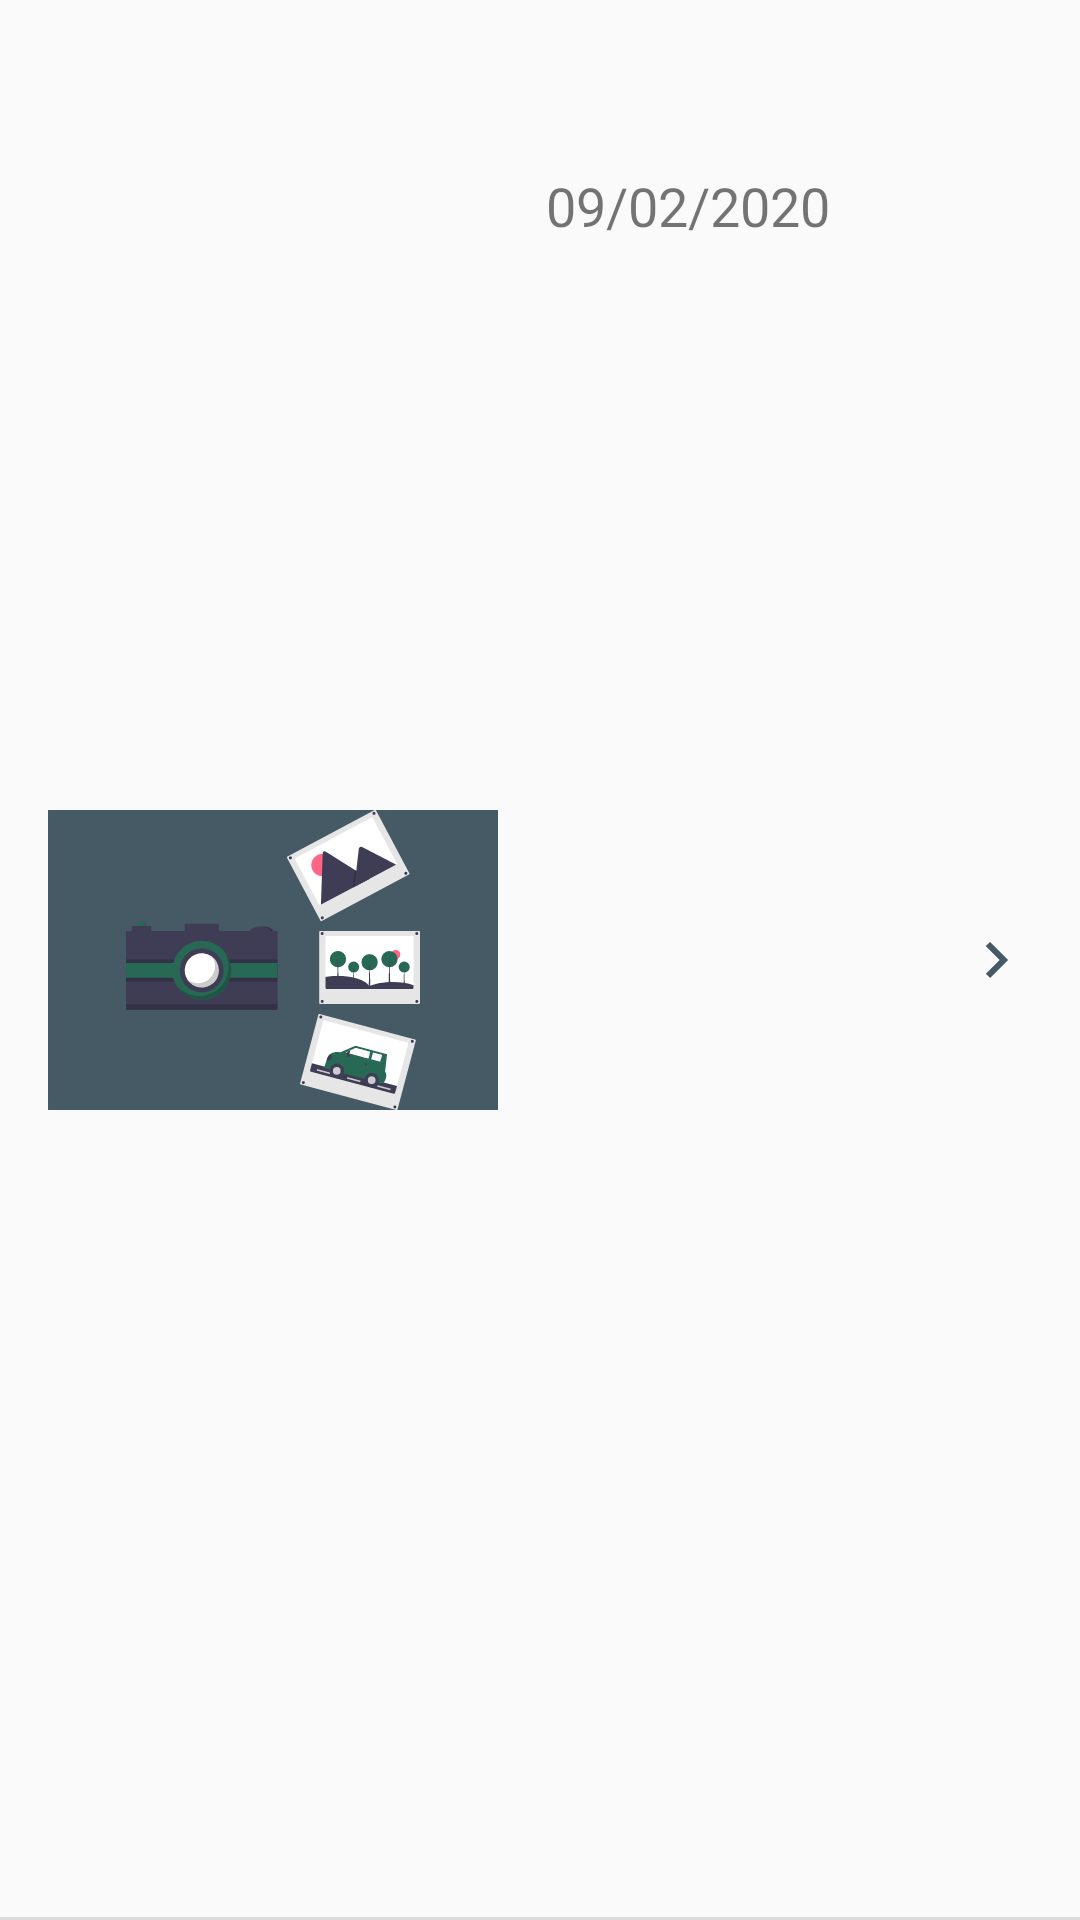

Named icons in this screenshot (1080 x 1920) and their centers, (x,y):
arrow right: (997,960)
